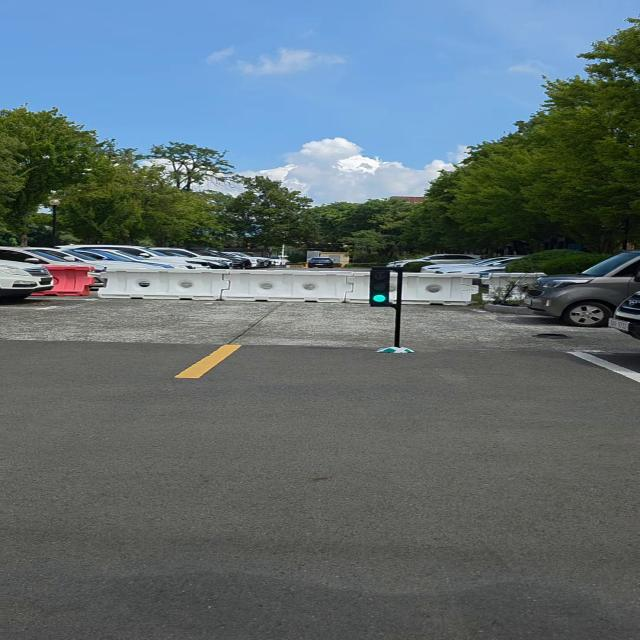green: (367, 269, 397, 307)
